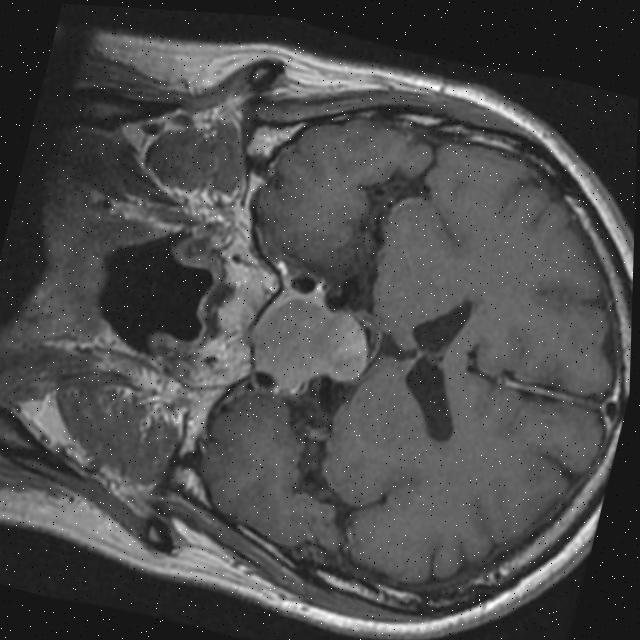Pituitary: (241, 287, 380, 406)
